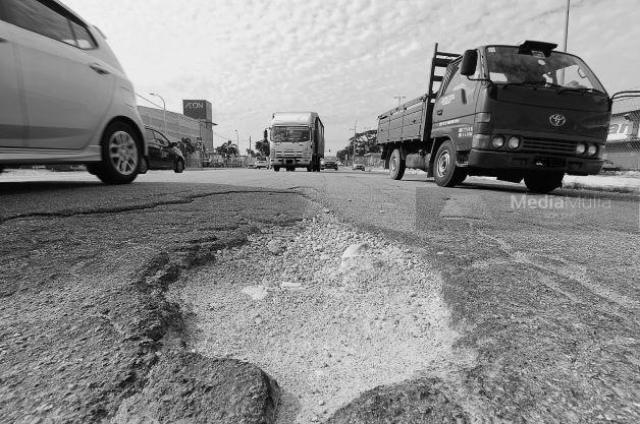Pothole: (136, 213, 481, 424)
